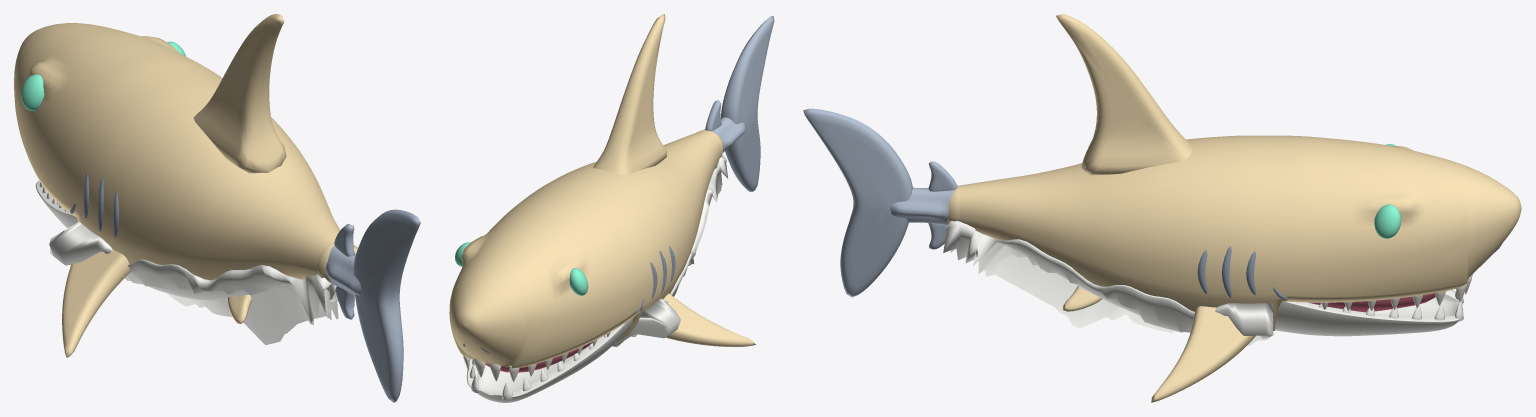
The model's file is SharkBaitShark.glb.
The picture shows the model from 3 angles, left to right: view 1: azimuth 30°, elevation 25°; view 2: azimuth 150°, elevation 25°; view 3: azimuth 270°, elevation 25°; orthographic projection. The views are drawn at different scales.
Visible parts, largest first — view 1: Body, Belly, Tail, Eyes, Gills, Jaw; view 2: Body, Tail, Jaw, Belly, Teeth, JawTeeth, Eyes, Gills, Mouth; view 3: Body, Tail, Belly, Jaw, Gills, Mouth, Eyes.
Boxes of the visible parts, box(x1,y1,x2,y2) form: Body: box(14, 14, 357, 357); Belly: box(49, 222, 354, 345); Tail: box(326, 209, 420, 402); Eyes: box(21, 41, 185, 111); Gills: box(70, 172, 119, 237); Jaw: box(35, 180, 78, 228); Body: box(449, 14, 755, 368); Tail: box(704, 16, 774, 192); Jaw: box(466, 317, 633, 402); Belly: box(612, 155, 728, 347); Teeth: box(463, 332, 610, 382); JawTeeth: box(469, 334, 606, 399); Eyes: box(455, 242, 588, 295); Gills: box(463, 246, 675, 353); Mouth: box(485, 342, 592, 372); Body: box(947, 14, 1521, 402); Tail: box(803, 108, 957, 297); Belly: box(942, 221, 1273, 345); Jaw: box(1275, 290, 1463, 336); Gills: box(1197, 244, 1501, 300); Mouth: box(1309, 293, 1435, 312); Eyes: box(1374, 144, 1401, 238).
Bounding box in the file's own units: 6.13 × 6.24 × 12.4.
